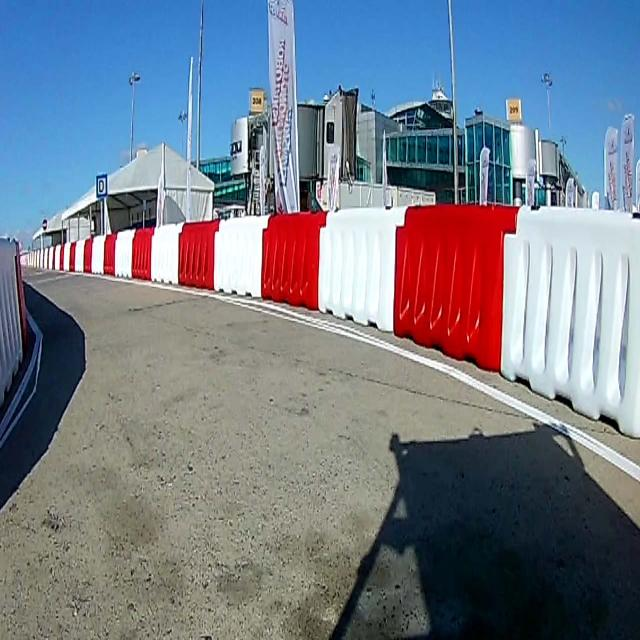durak: (96, 174, 106, 198)
